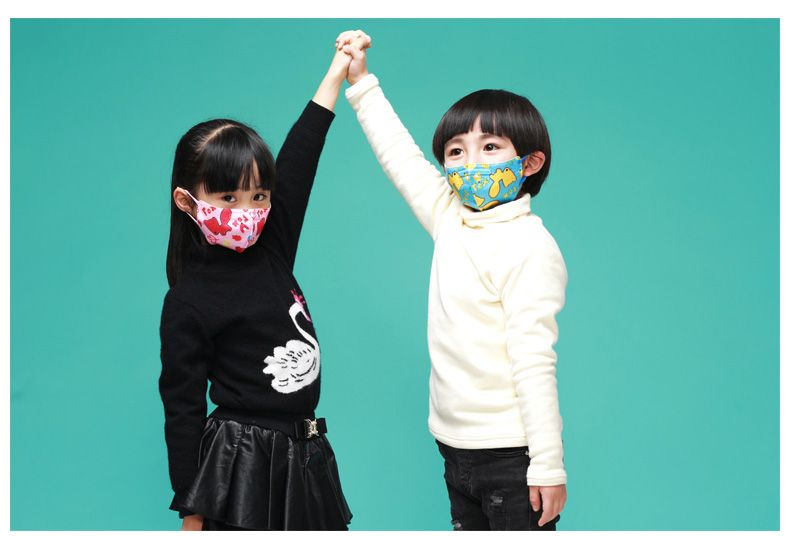face_mask: (444, 119, 516, 213), (208, 161, 273, 249)
